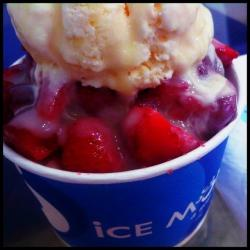icecream: (6, 3, 234, 94)
